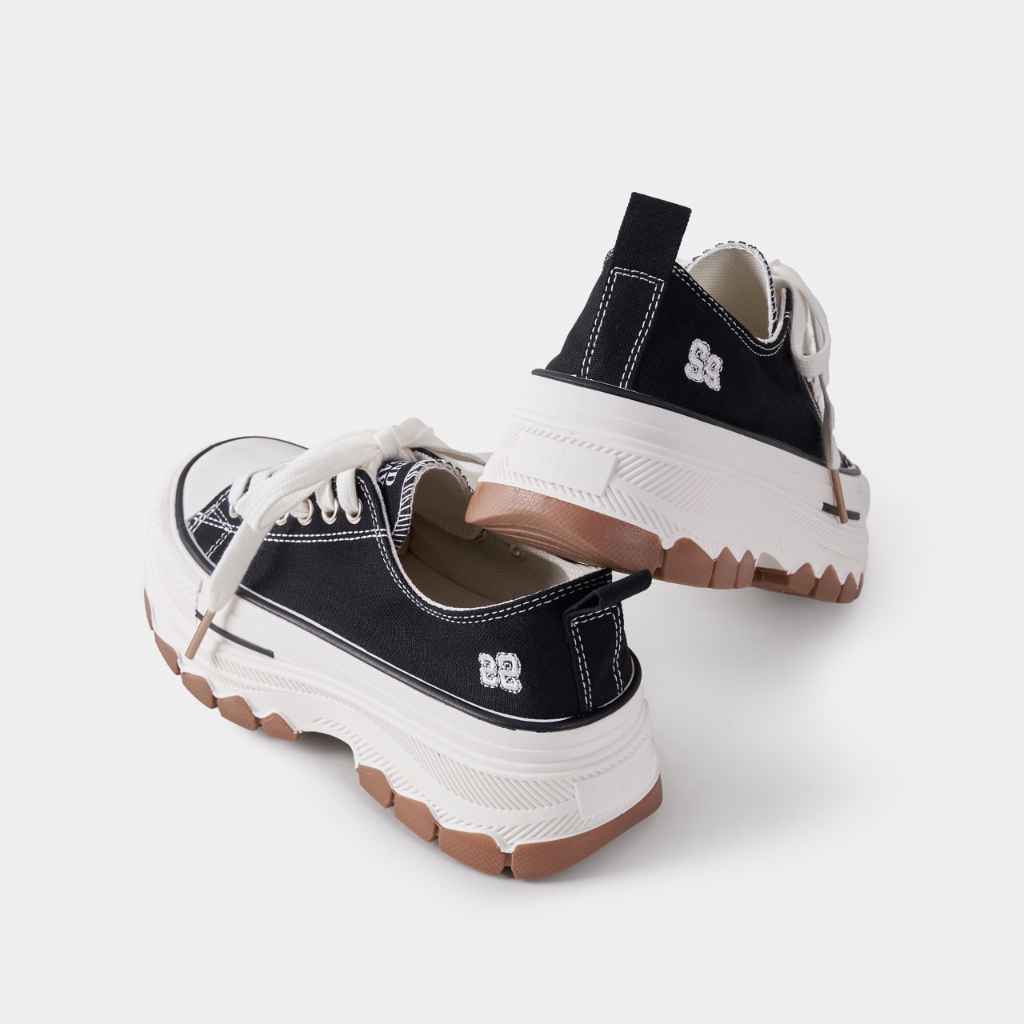sneakers: (138, 409, 667, 883), (463, 193, 869, 603)
